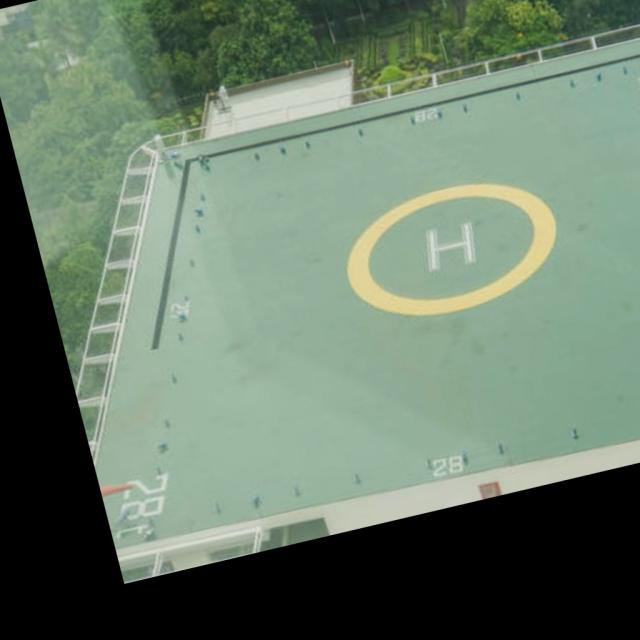helipad: (338, 180, 560, 320)
